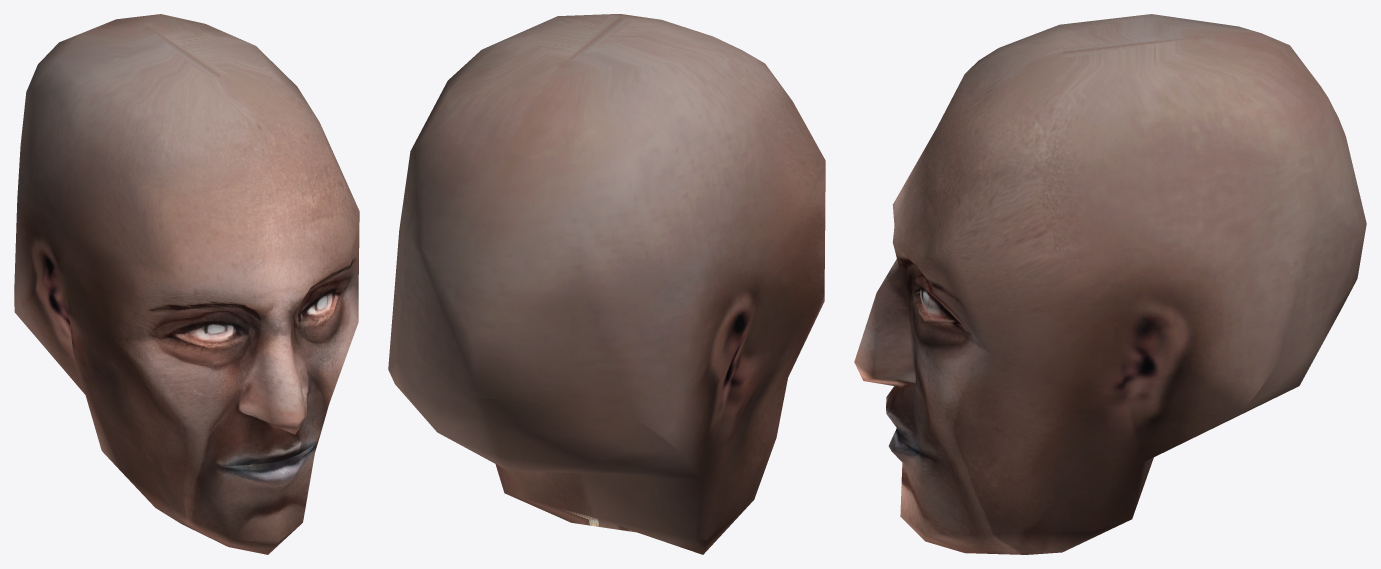
File: b_v_imperial_m_head_01.glb
3 renders of one model, left to right at view 1: azimuth 30°, elevation 25°; view 2: azimuth 150°, elevation 25°; view 3: azimuth 270°, elevation 25°, orthographic. The views are drawn at different scales.
Parts seen in each view (by area): view 1: Tri B_V_Imperial_M_Head_01; view 2: Tri B_V_Imperial_M_Head_01; view 3: Tri B_V_Imperial_M_Head_01.
Part boxes in pixels (x1,y1,x2,y2): Tri B_V_Imperial_M_Head_01: (14, 14, 359, 554); Tri B_V_Imperial_M_Head_01: (388, 14, 825, 554); Tri B_V_Imperial_M_Head_01: (854, 14, 1366, 554).
Bounding box in the file's own units: 0.097 × 0.1615 × 0.1487.
Materials: 1 (1 with a texture image).
